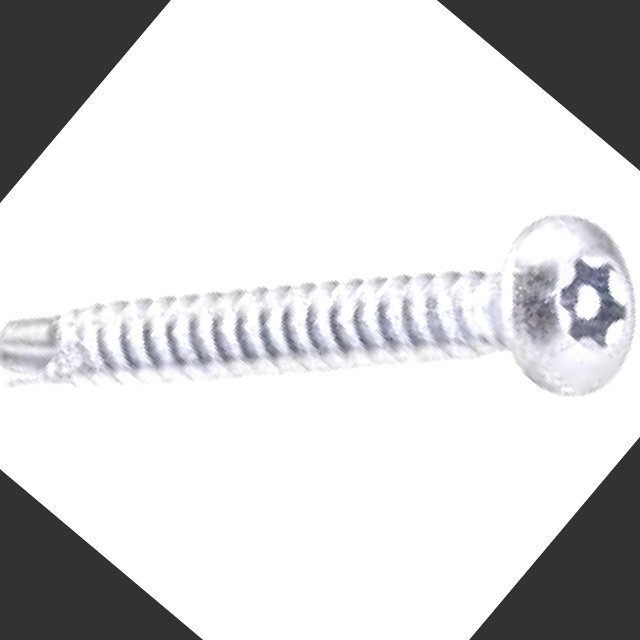torx: (450, 187, 640, 420)
